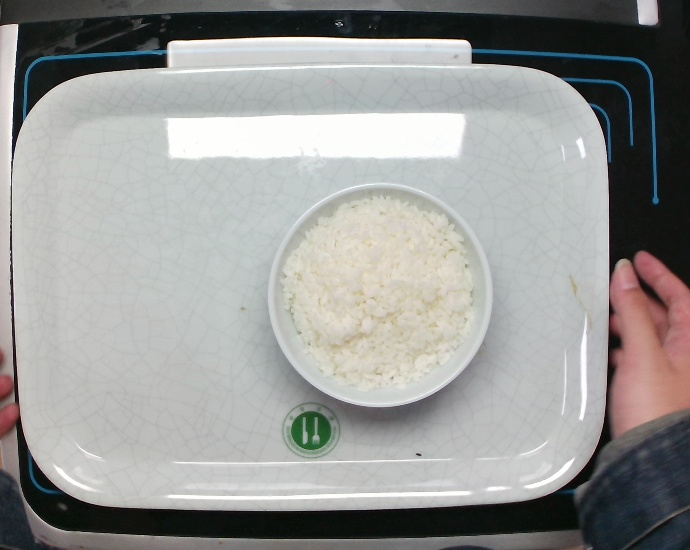JYsf-Fan_Wan: (265, 180, 494, 409)
